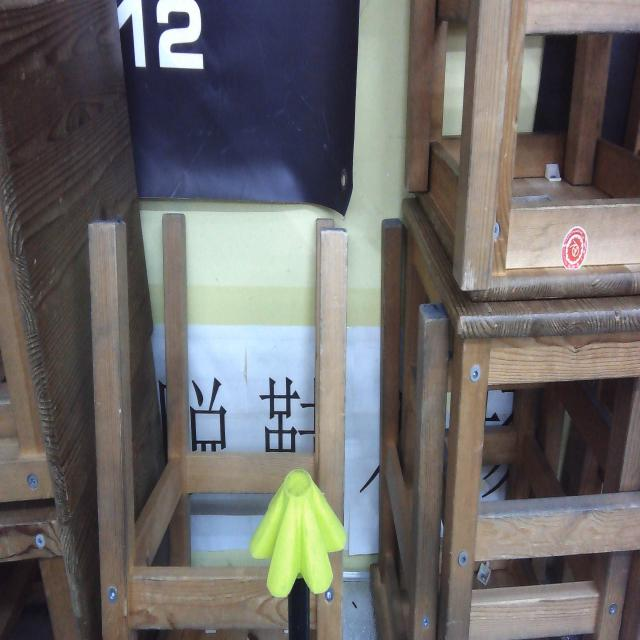Yellow-Stake-Head: (249, 468, 347, 597)
